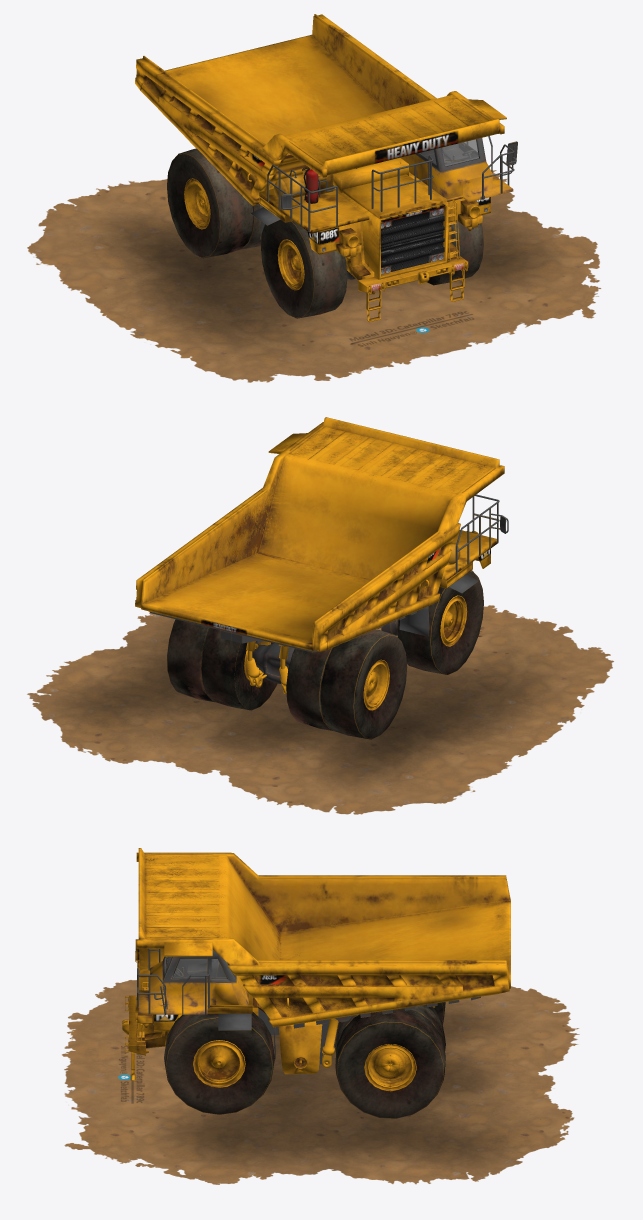
File: caterpillar_789c.glb
3 renders of one model, top to bottom at view 1: azimuth 30°, elevation 25°; view 2: azimuth 150°, elevation 25°; view 3: azimuth 270°, elevation 25°, orthographic.
Parts seen in each view (by area): view 1: Caterpillar789c, mesh2_dat, Glass; view 2: Caterpillar789c, mesh2_dat; view 3: Caterpillar789c, mesh2_dat, Glass.
Boxes of the visible parts, x1,y1,x2,y2 form: Caterpillar789c: (135,14,517,322); mesh2_dat: (27,165,601,382); Glass: (420,139,478,166); Caterpillar789c: (135,417,508,739); mesh2_dat: (27,605,613,814); Caterpillar789c: (122,848,510,1118); mesh2_dat: (62,980,579,1184); Glass: (166,956,226,978).
Size of the model in its own units: 4.8 by 1.59 by 4.79.
3 materials, 2 textured.
